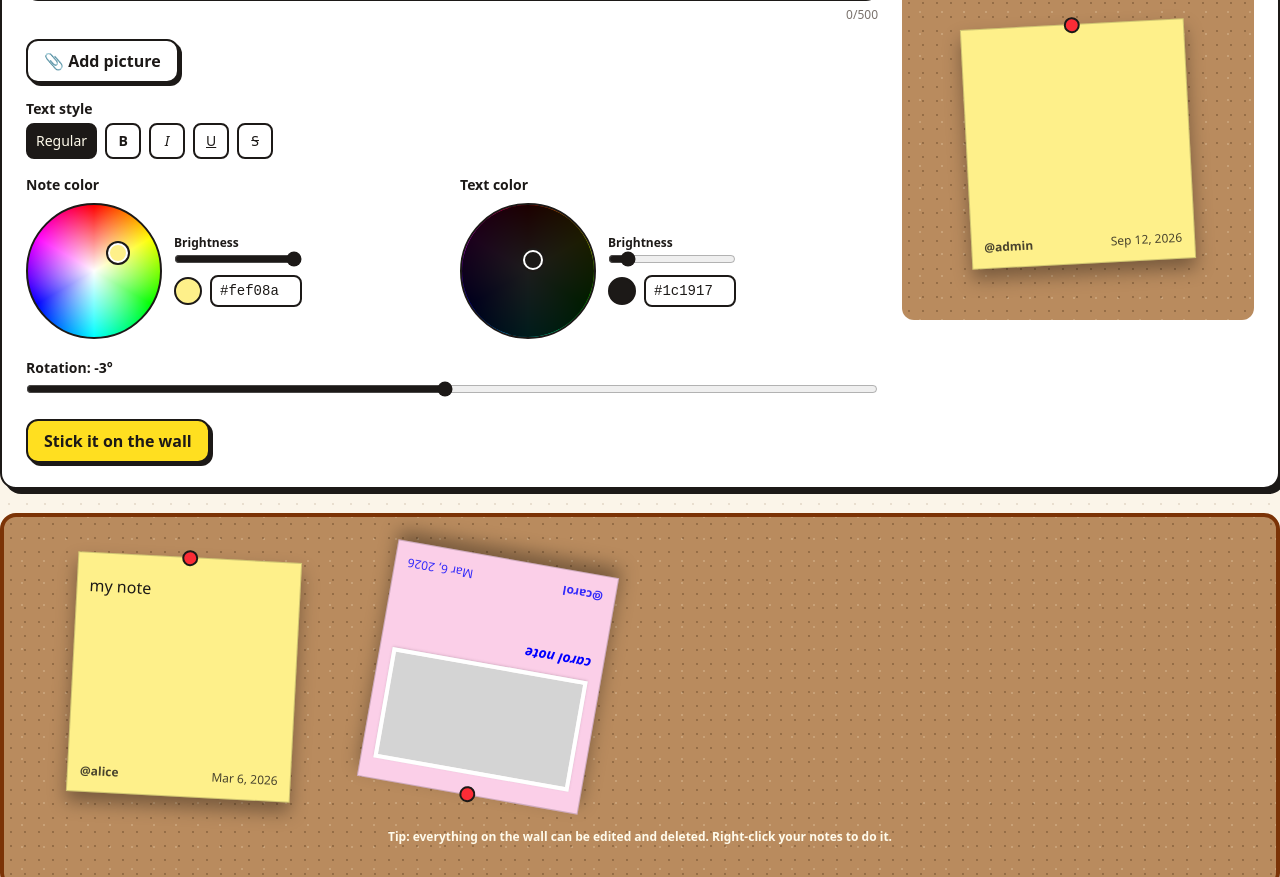
Test: UserWallPage › lets admins really delete a note
The width and height of the screenshot is (1280, 877).
(page scrolled)
Right-click the element showing "carol note @carol Mar 6, 2026" at point(488, 677), box [357,539,619,815]
(page scrolled)
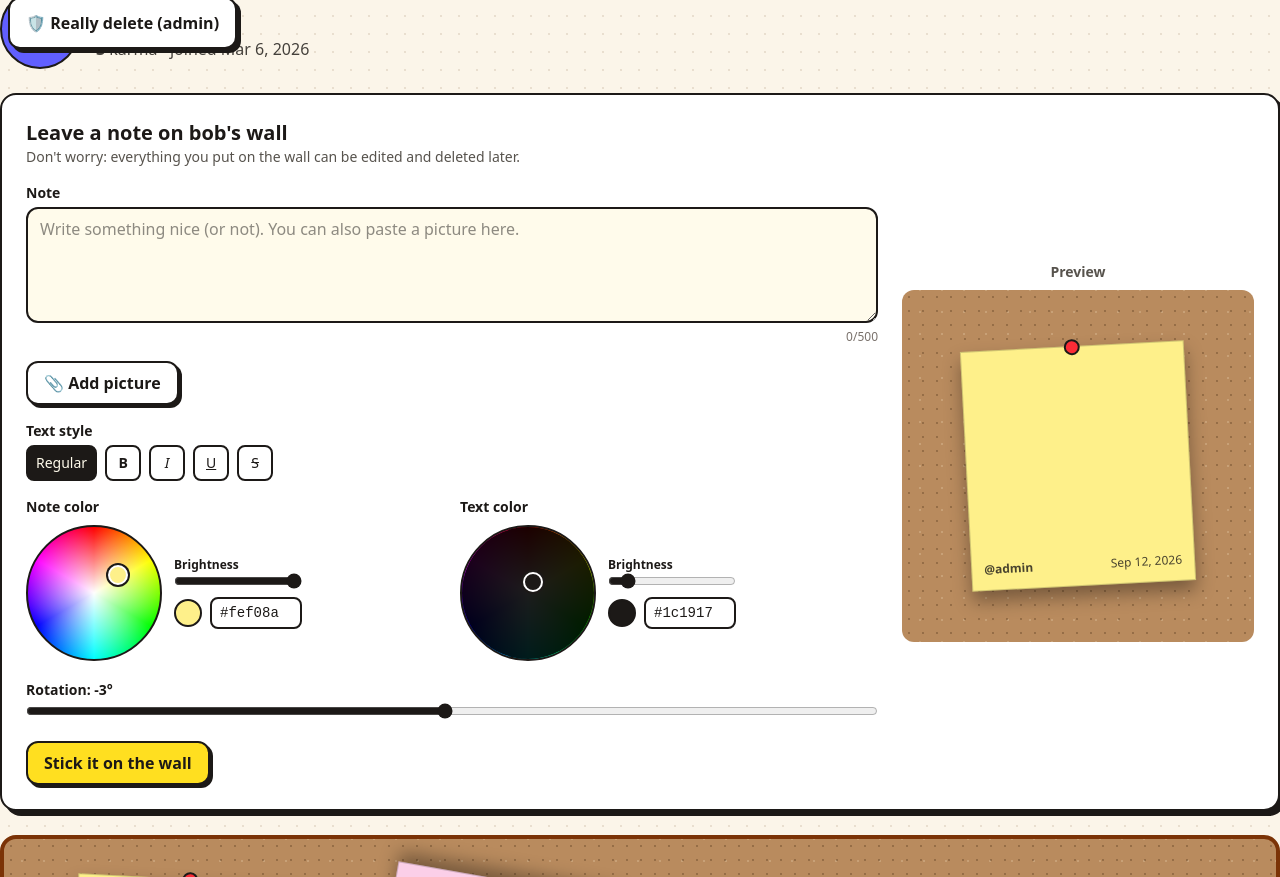
Click the menu item "🛡️ Really delete (admin)" at point(123, 23), box [10,3,235,43]
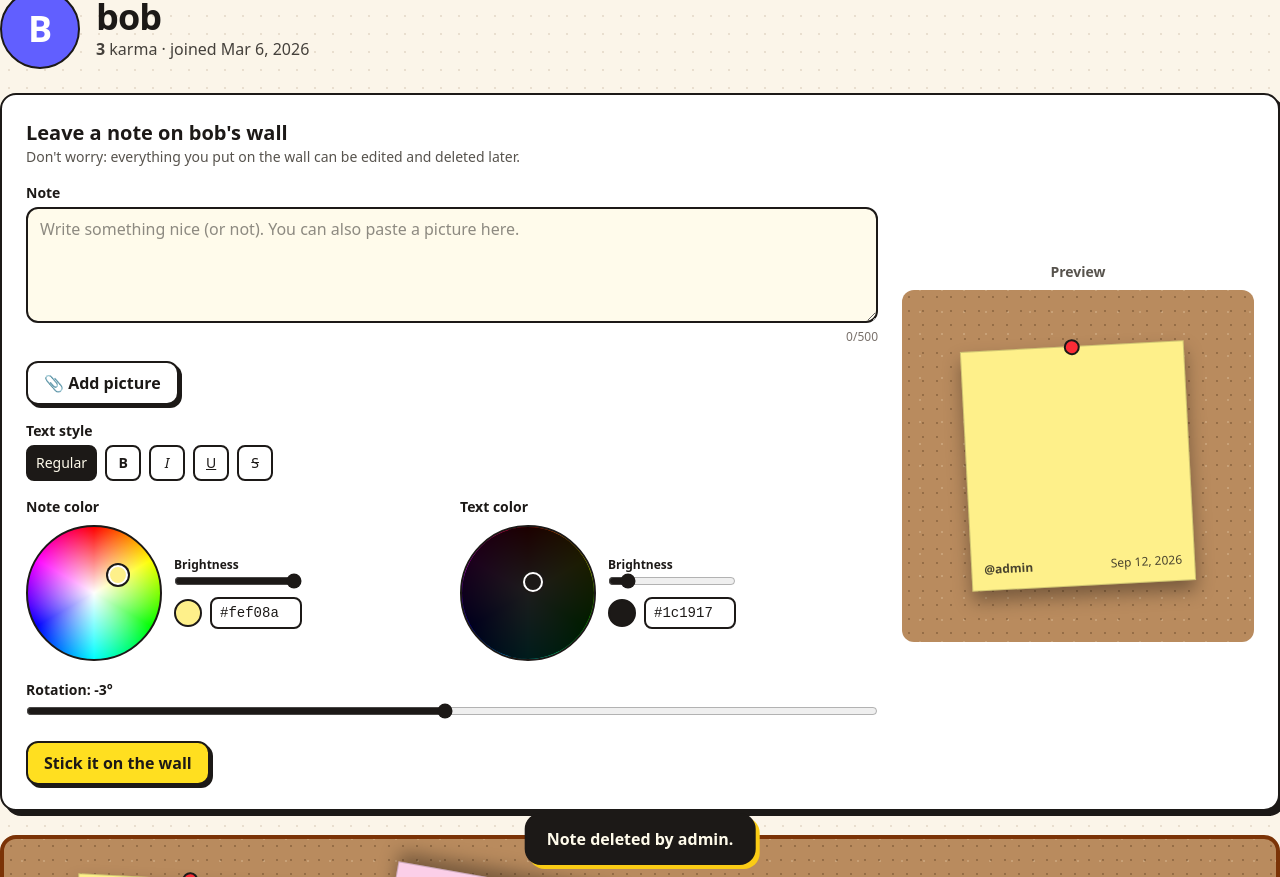
Expected: the message reads "Note deleted by admin.", [547,828,733,850]
